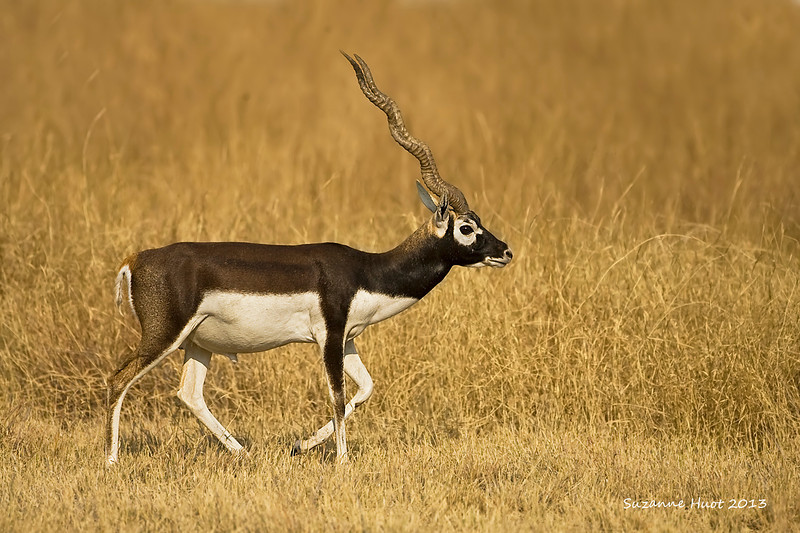Blackbuck: (101, 45, 517, 463)
